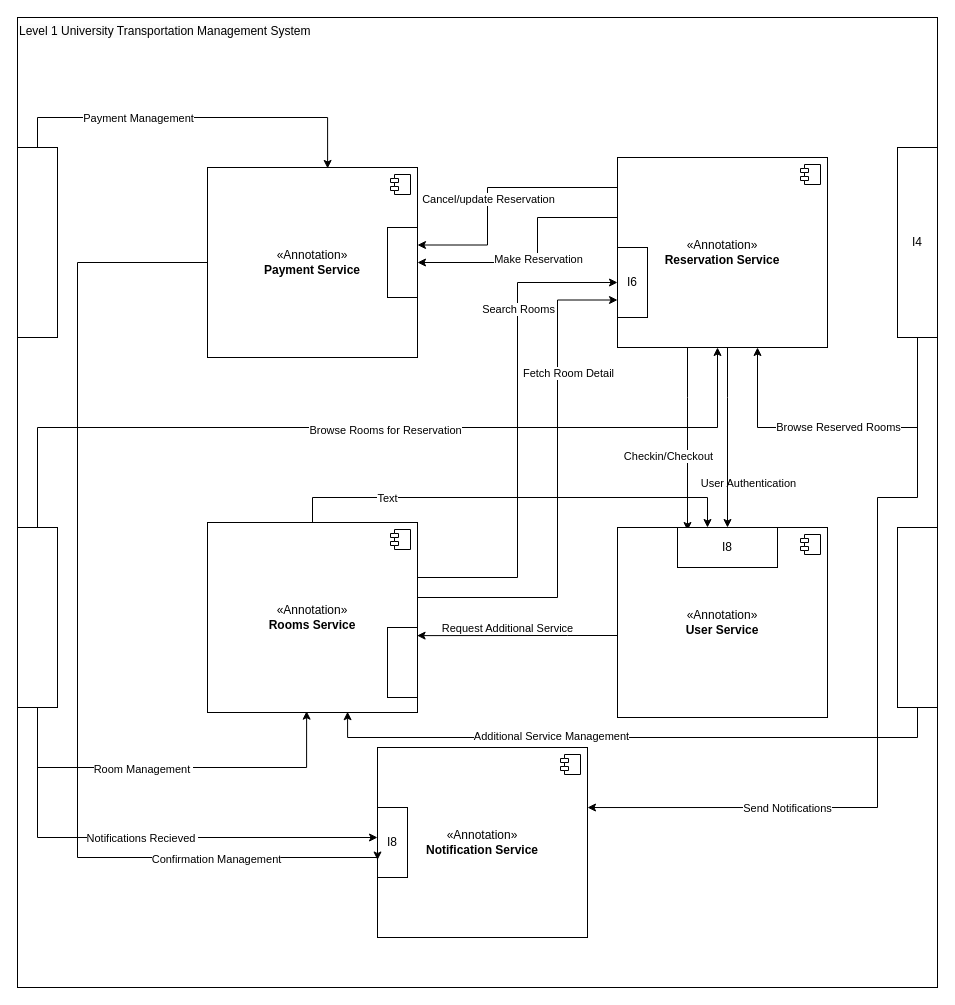
The diagram is 955 pixels wide and 1005 high, and some of its shapes have lost their labels. The shapes that lost their labels are listed below. From the top down, each one's centre as x and y in pixels, then its label:
[37,242]: I1
[402,262]: I5
[37,617]: I2
[917,617]: I3
[402,662]: I7
